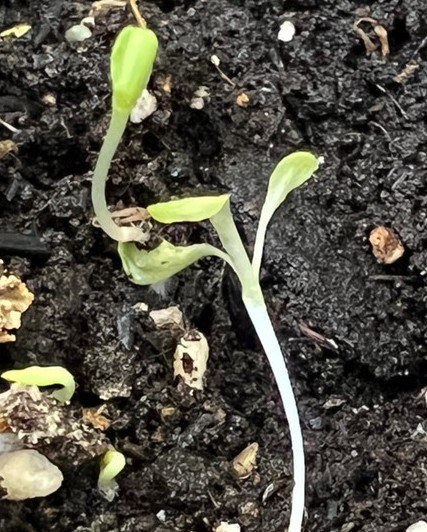week1: (49, 5, 230, 255)
